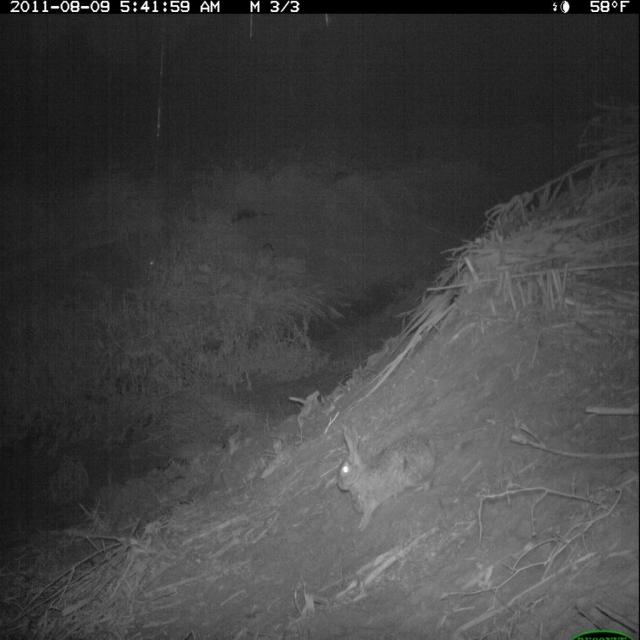rabbit: (334, 416, 441, 534)
